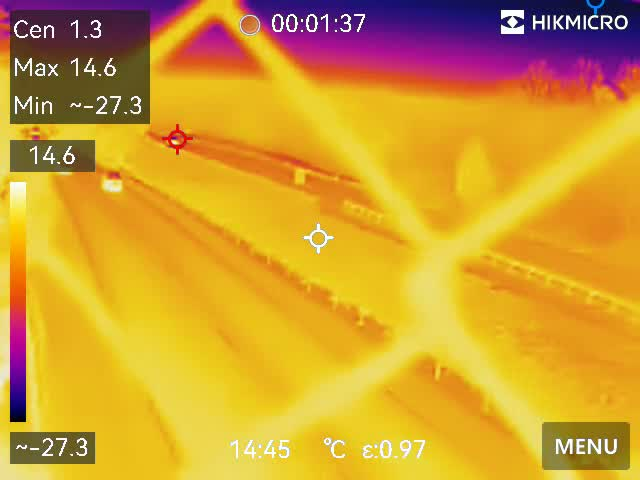vehicle: (102, 163, 123, 192)
